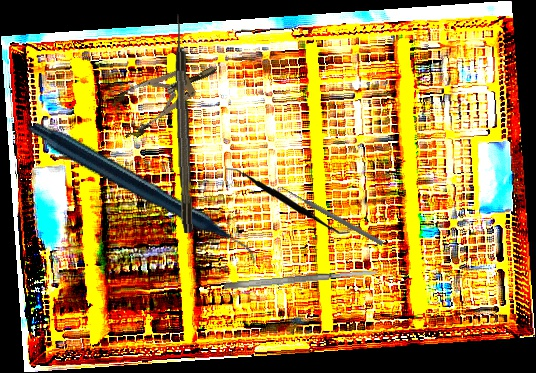Handpiece: (26, 64, 258, 325)
Hook Surgical: (173, 13, 193, 234)
Pusher: (279, 184, 385, 247)
Spatula Surgical: (225, 162, 351, 239), (223, 268, 378, 291)
Speculum: (106, 48, 227, 143)
